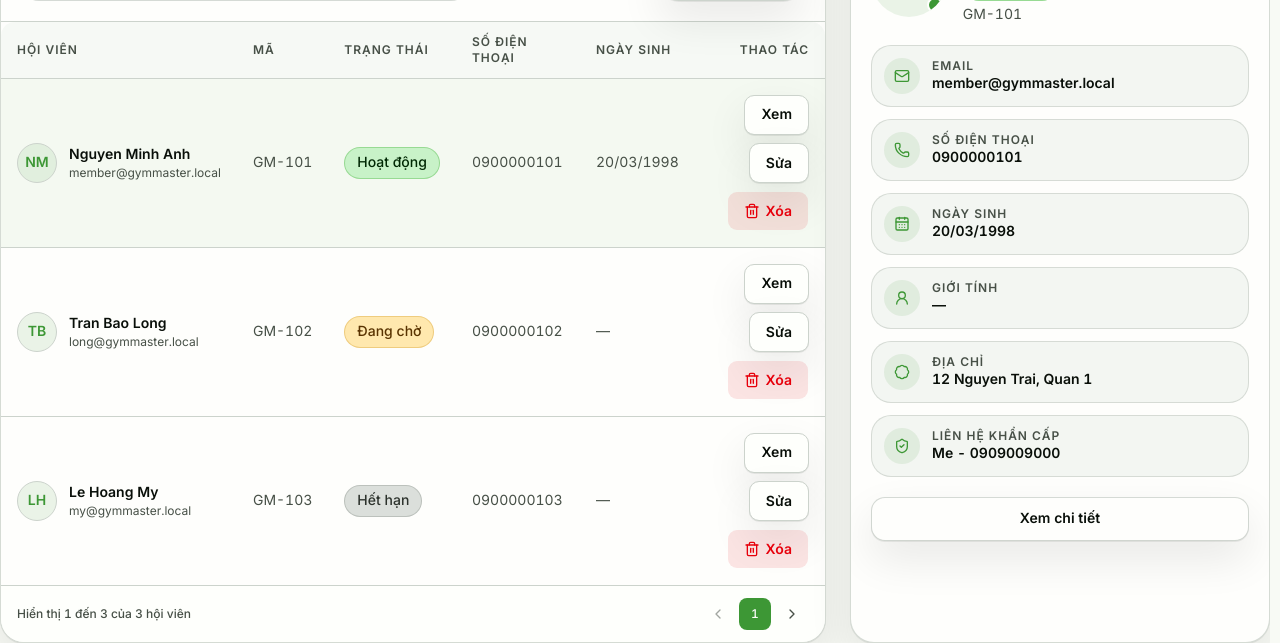
Test case: ManagementWorkspace › lets admin soft-delete a member from the list
This screenshot has width=1280, height=643.
(page scrolled)
expect the text "Tran Bao Long" is shown: met, box [69,315,167,332]
Click the button with test id "member-delete-button" at (768, 380), box [727,360,809,400]
(page scrolled)
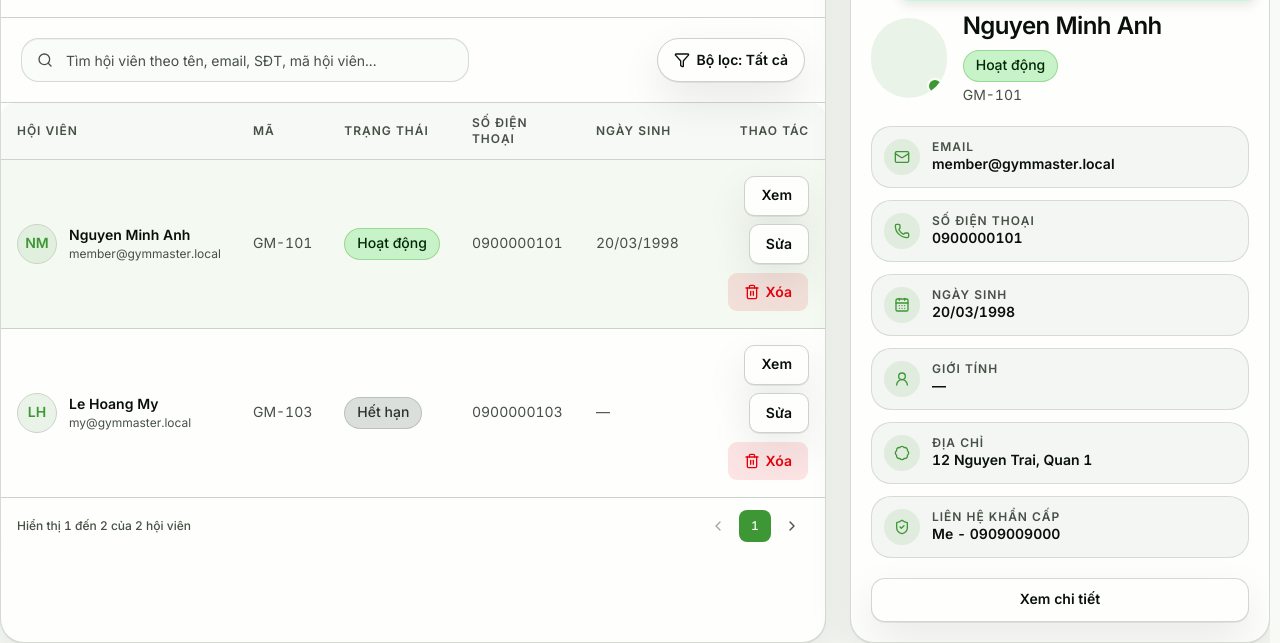
expect the text "Tran Bao Long" is gone: met
